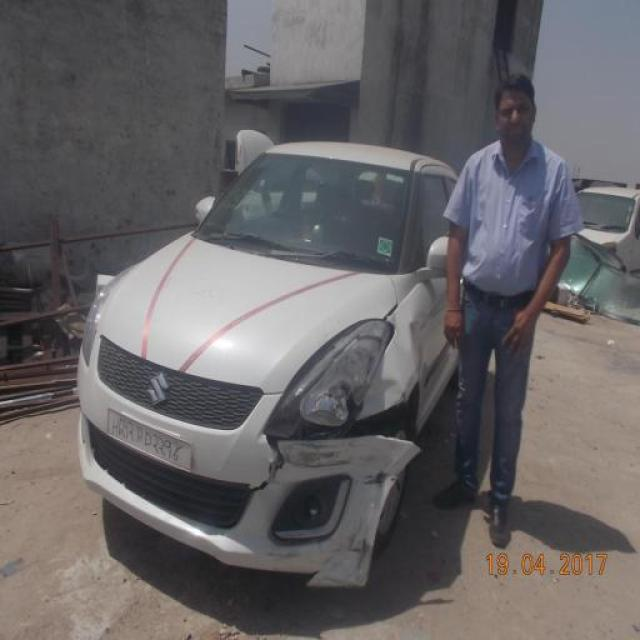dent: (274, 514, 375, 590), (355, 367, 405, 421)
misalignment: (265, 371, 429, 451)
scratch: (279, 434, 359, 476), (361, 464, 392, 492)
shatter: (294, 381, 352, 436)
tear: (249, 433, 285, 496)
